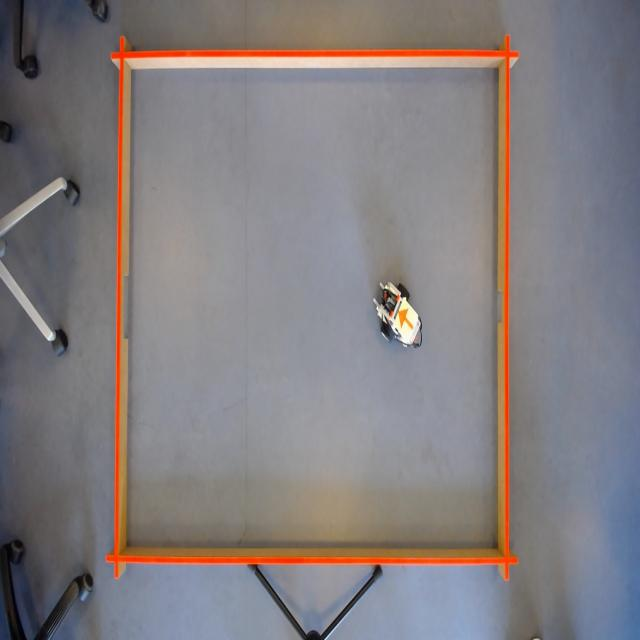robot: (392, 297, 420, 343)
